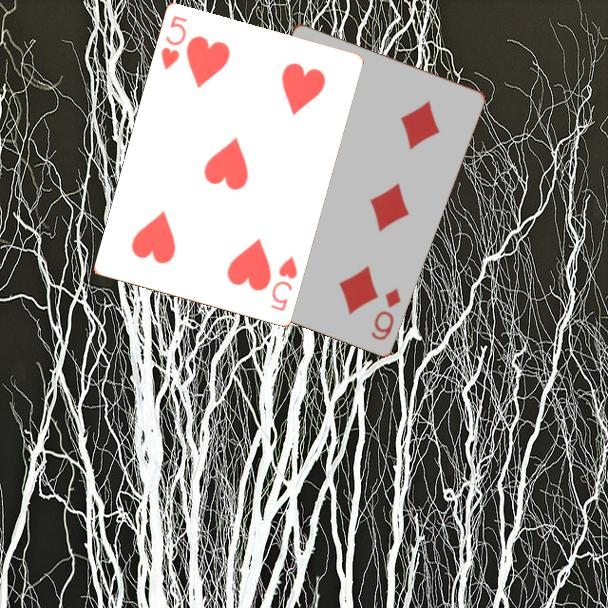d06: (367, 284, 404, 343)
h05: (267, 253, 300, 314), (158, 12, 190, 73)
